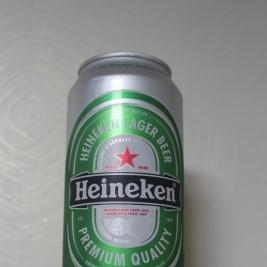beer: (64, 51, 189, 267)
